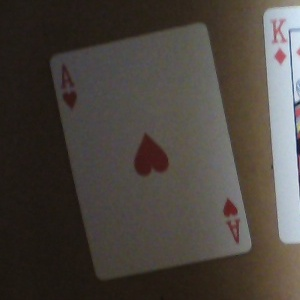card: (46, 20, 254, 280)
